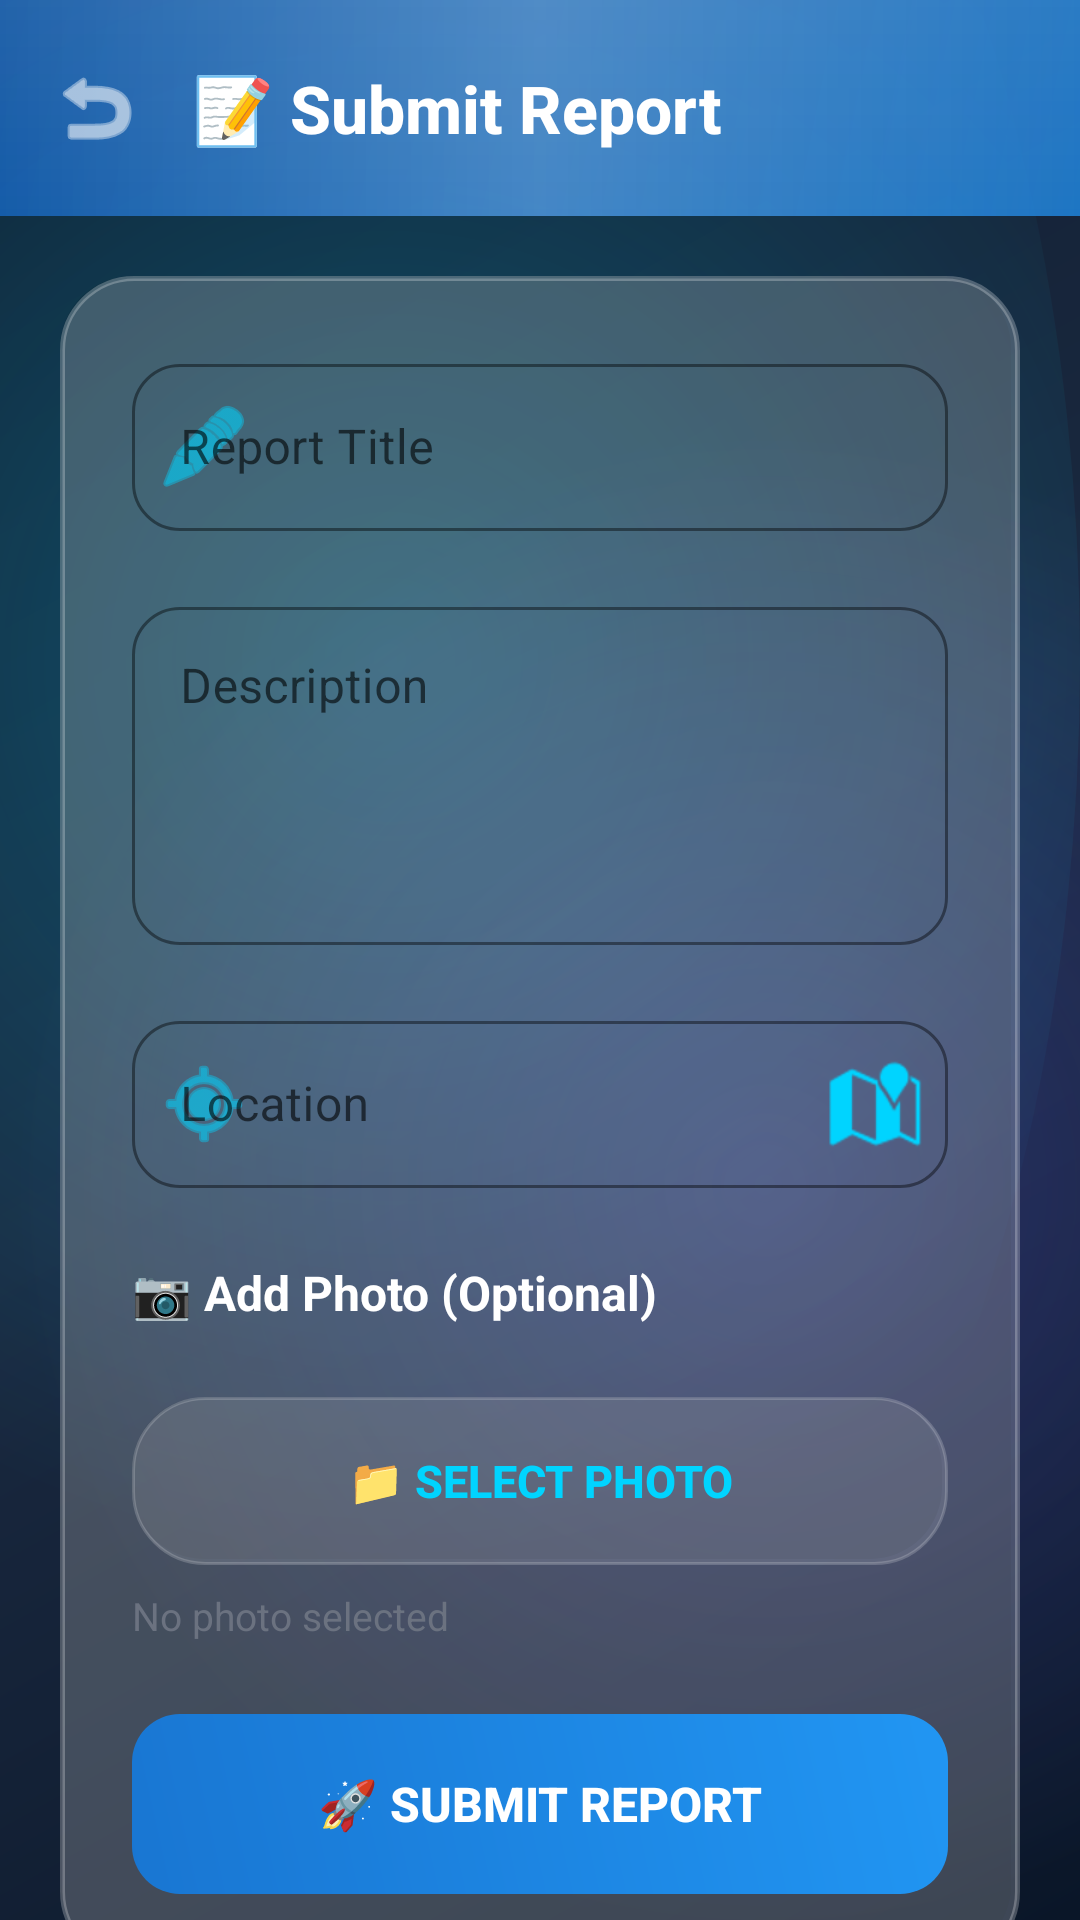

Where icons sit on this 1080 x 1920 app screen, as (x1, y1, x2, y2):
revert: (63, 77, 132, 140)
